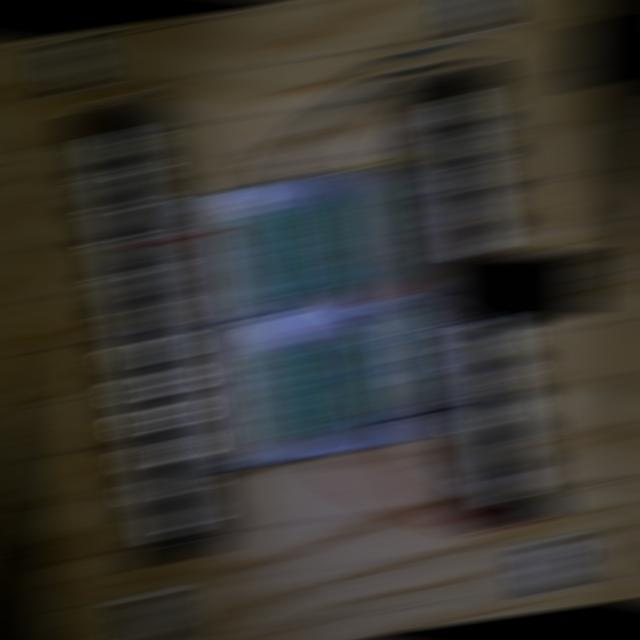Flathead_Block: (414, 67, 558, 527)
Phillips_Block: (67, 104, 217, 566)
Terminal_1: (362, 311, 416, 409), (344, 190, 398, 287)
Terminal_2: (287, 201, 342, 294), (280, 343, 334, 436), (307, 338, 360, 431), (232, 211, 285, 304), (260, 206, 313, 298)
